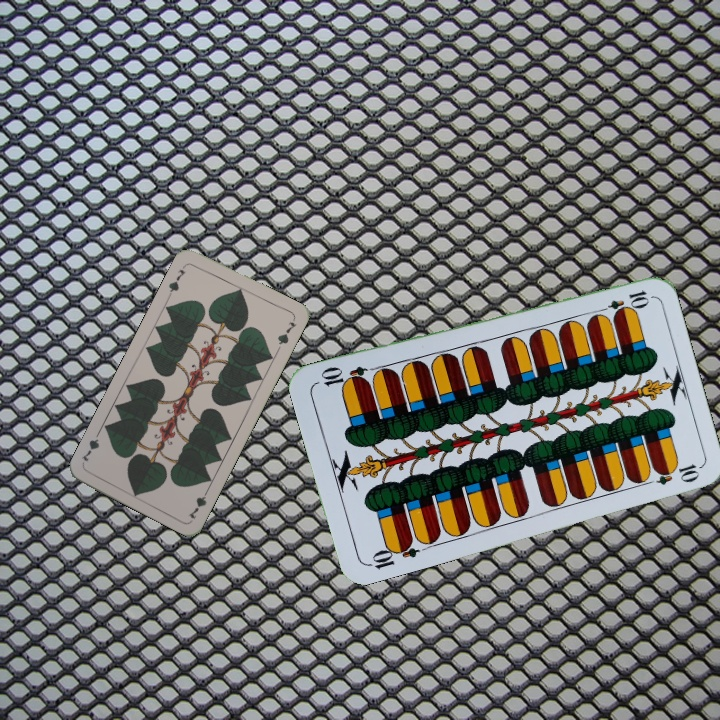E10: (363, 535, 421, 572), (593, 286, 652, 317)
G7: (184, 484, 212, 522), (165, 260, 189, 298)
